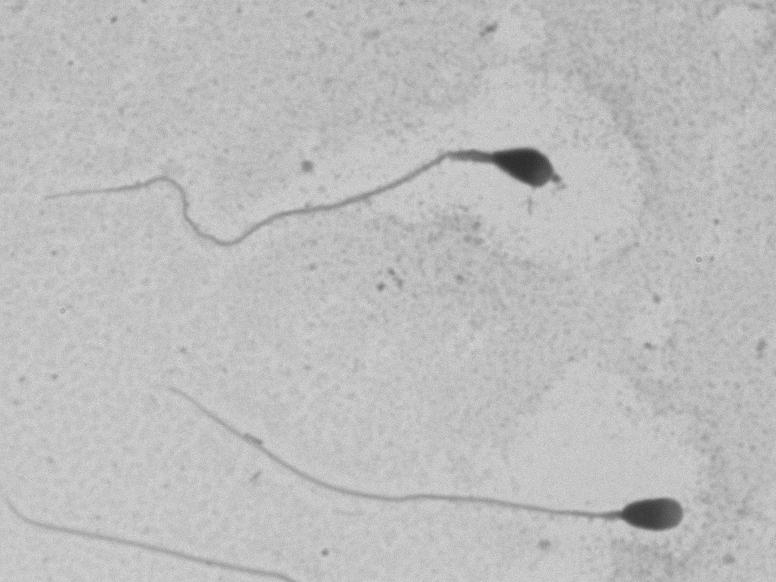Abnormal: (26, 71, 577, 288)
Normal: (156, 368, 705, 545)
